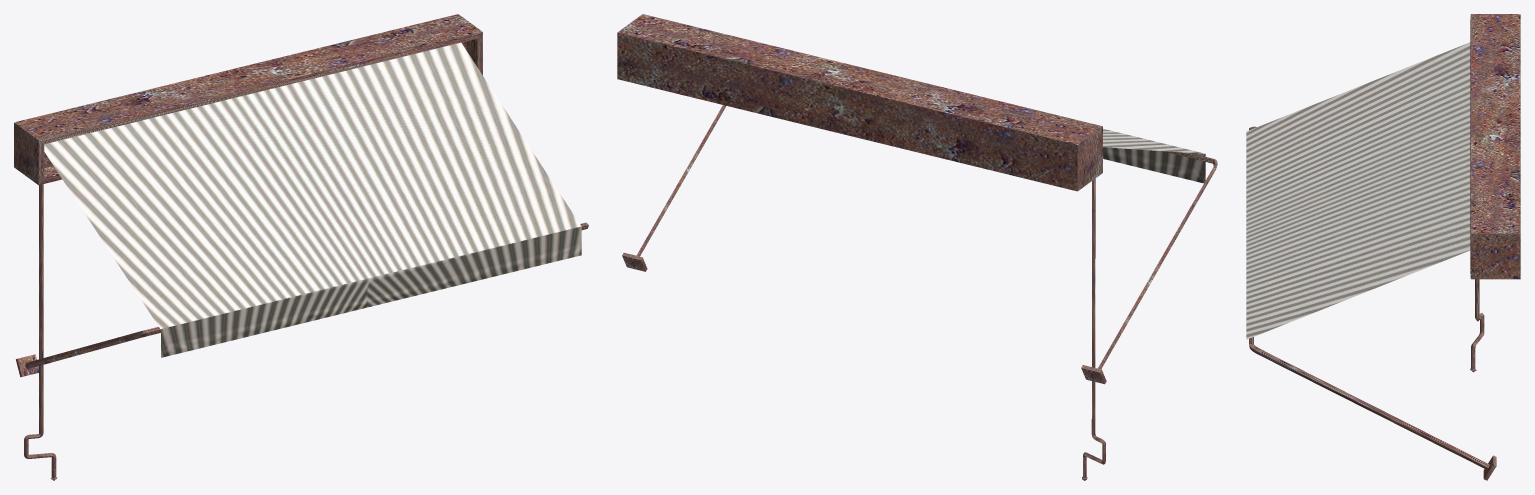
File: awning_rollup.fbx
3 renders of one model, left to right at view 1: azimuth 30°, elevation 25°; view 2: azimuth 150°, elevation 25°; view 3: azimuth 270°, elevation 25°, orthographic. The views are drawn at different scales.
Parts seen in each view (by area): view 1: canvas0, frame0; view 2: frame0, canvas0; view 3: canvas0, frame0.
Part boxes in pixels (x1=…): canvas0: x1=44, y1=42, x2=581, y2=357; frame0: x1=14, y1=14, x2=588, y2=480; frame0: x1=617, y1=14, x2=1217, y2=480; canvas0: x1=1103, y1=129, x2=1205, y2=183; canvas0: x1=1246, y1=42, x2=1470, y2=339; frame0: x1=1249, y1=14, x2=1520, y2=480.
Bounding box in the file's own units: 1.33 × 0.9532 × 0.6767.
